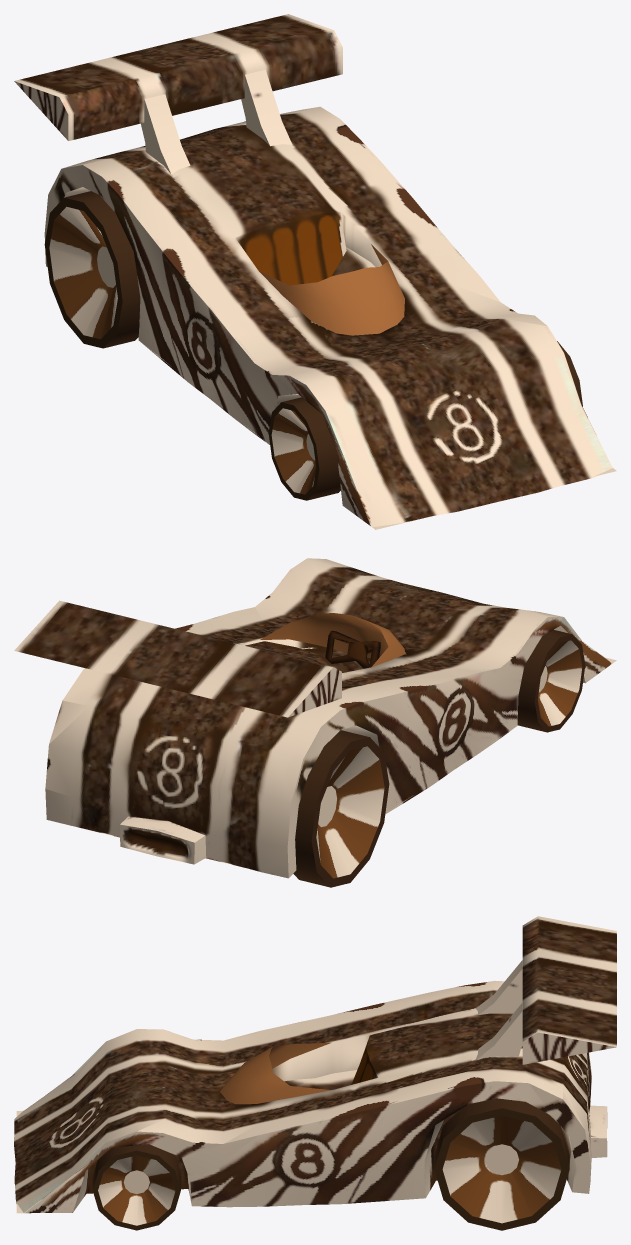
Rendered from crumbelinas_tira-missile_early_look.glb.
3 renders of one model, top to bottom at view 1: azimuth 30°, elevation 25°; view 2: azimuth 150°, elevation 25°; view 3: azimuth 270°, elevation 25°, orthographic. The views are drawn at different scales.
Parts seen in each view (by area): view 1: Crumbelina_Cart_0, Crumbelina_RearWheel_R.004_4, Crumbelina_FrontWheel_R_2; view 2: Crumbelina_Cart_0, Crumbelina_RearWheel_R.004_4, Crumbelina_FrontWheel_R_2; view 3: Crumbelina_Cart_0, Crumbelina_RearWheel_L_3, Crumbelina_FrontWheel_L_1.
Boxes of the visible parts, left/top/right/bottom form: Crumbelina_Cart_0: left=14, top=14, right=616, bottom=529; Crumbelina_RearWheel_R.004_4: left=44, top=191, right=140, bottom=348; Crumbelina_FrontWheel_R_2: left=268, top=397, right=340, bottom=500; Crumbelina_Cart_0: left=14, top=558, right=616, bottom=878; Crumbelina_RearWheel_R.004_4: left=293, top=730, right=389, bottom=887; Crumbelina_FrontWheel_R_2: left=517, top=629, right=585, bottom=732; Crumbelina_Cart_0: left=14, top=916, right=616, bottom=1213; Crumbelina_RearWheel_L_3: left=434, top=1098, right=569, bottom=1230; Crumbelina_FrontWheel_L_1: left=92, top=1144, right=180, bottom=1230.
Size of the model in its own units: 1.13 by 0.914 by 2.48.
Materials: 7 (7 with a texture image).
